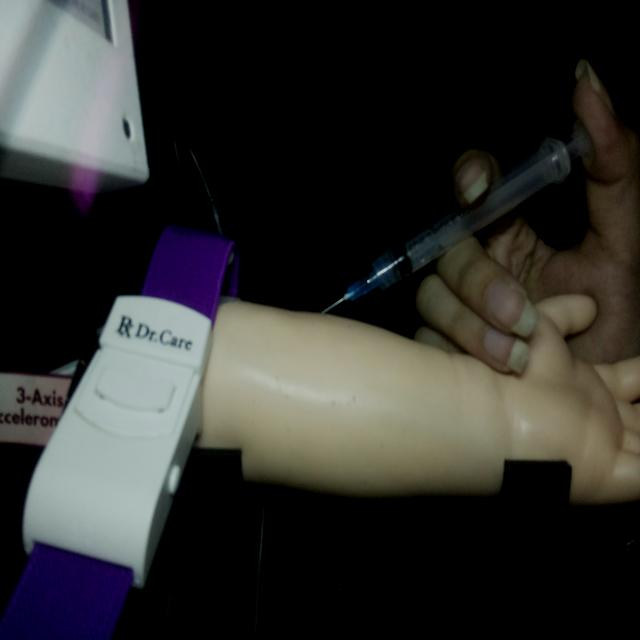23 degrees: (319, 118, 595, 316)
